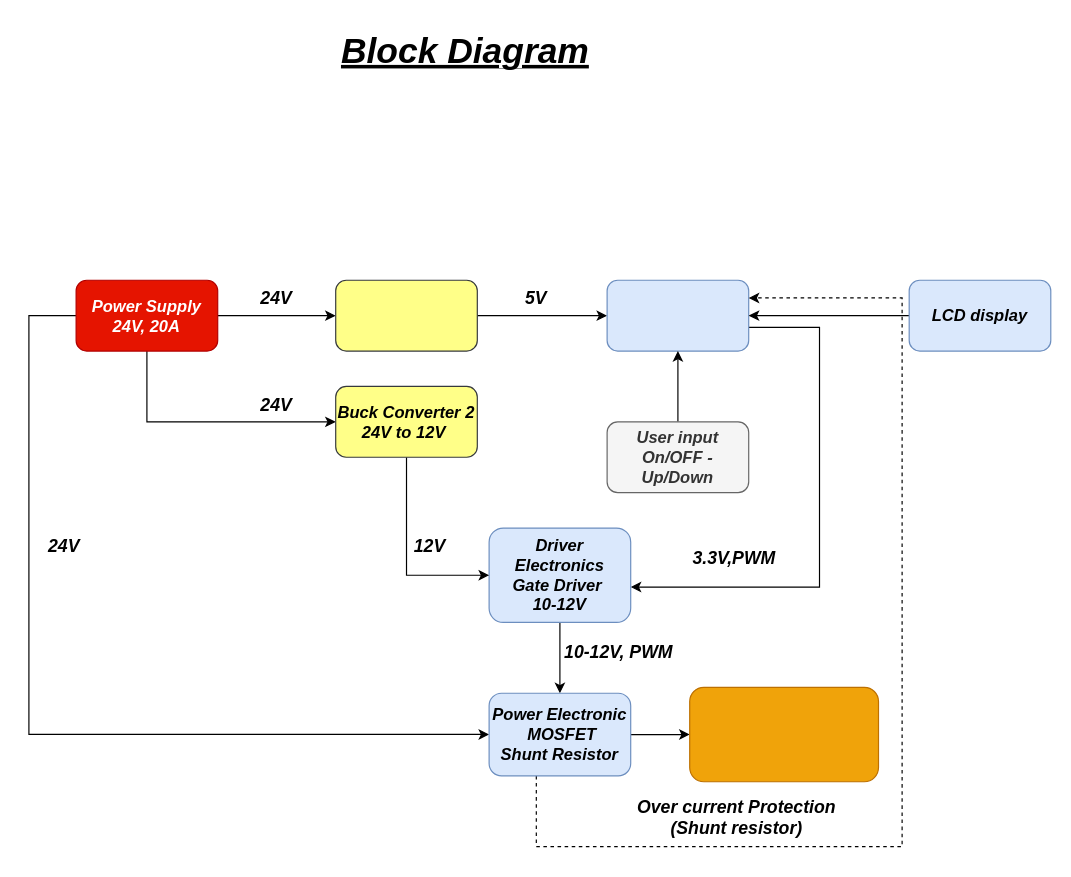
Some shapes in this 1071 by 877 pixel diagram are drawn without their labels. Here are the shapes that lost their labels. From the top down, the box of each, then its label:
(335, 279, 477, 351): Buck Converter 1 24V to 5V
(606, 279, 749, 351): Control Board STM32 - PWM out
(689, 686, 879, 782): DC Motor 24V,250W,10.4A
